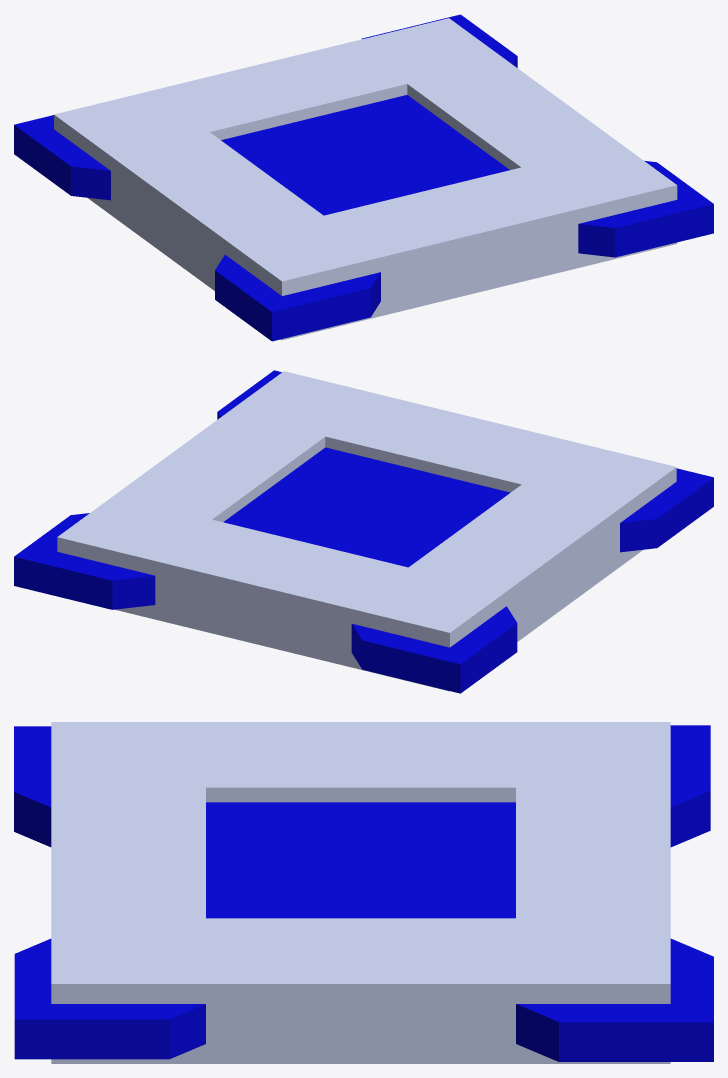
The model's file is platform.glb.
3 renders of one model, top to bottom at view 1: azimuth 30°, elevation 25°; view 2: azimuth 150°, elevation 25°; view 3: azimuth 270°, elevation 25°, orthographic. The views are drawn at different scales.
Visible parts, largest first — view 1: Cube; view 2: Cube; view 3: Cube.
Boxes of the visible parts, x1,y1,x2,y2 form: Cube: (14,14,713,341); Cube: (14,370,713,693); Cube: (14,722,713,1063).
Size of the model in its own units: 2.15 by 0.2702 by 2.14.
